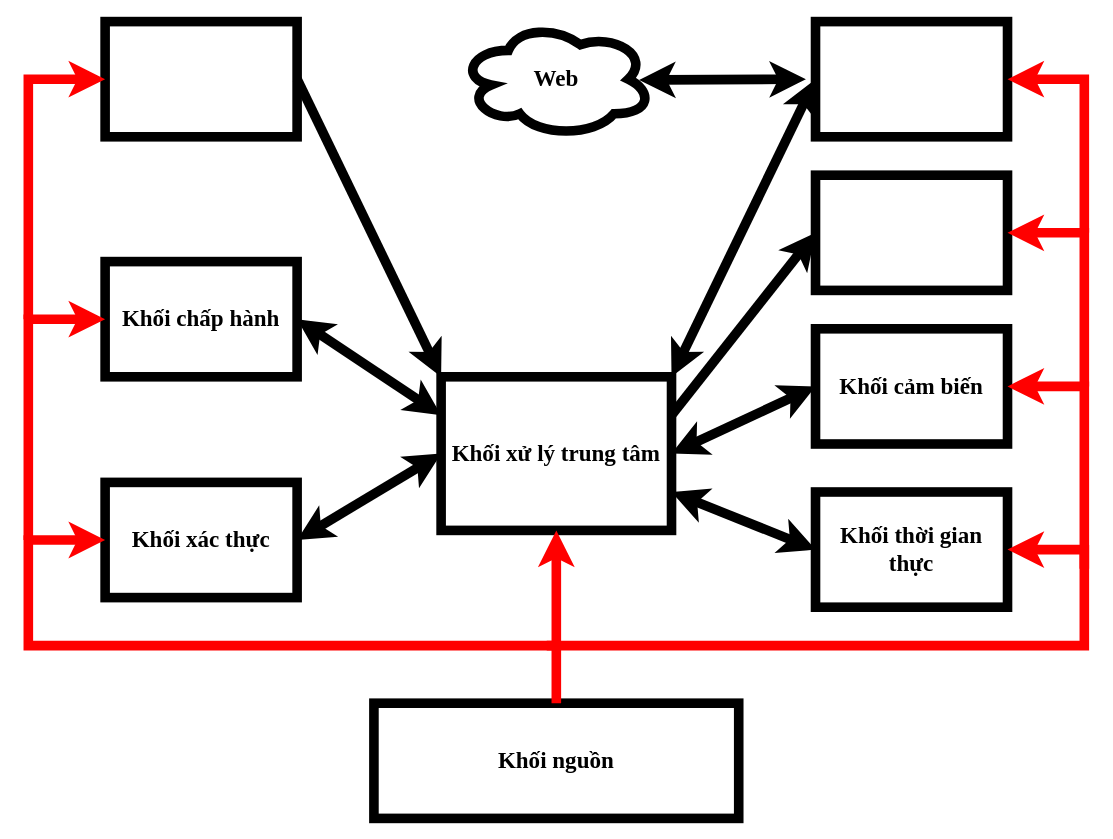
The diagram is 1113 pixels wide and 839 high, and some of its shapes have lost their labels. The centre of each missing label's shape, as x and y in pixels:
"Khối hiển thị" goes at [911,232].
"Khối nút nhấn và bàn phím" goes at [200,78].
"Khối xử lý ảnh ESP-CAM" goes at [911,78].
